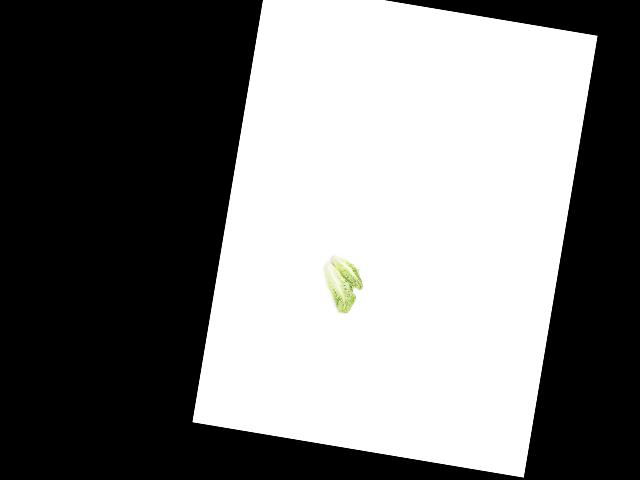lettuce: (314, 264, 361, 315)
